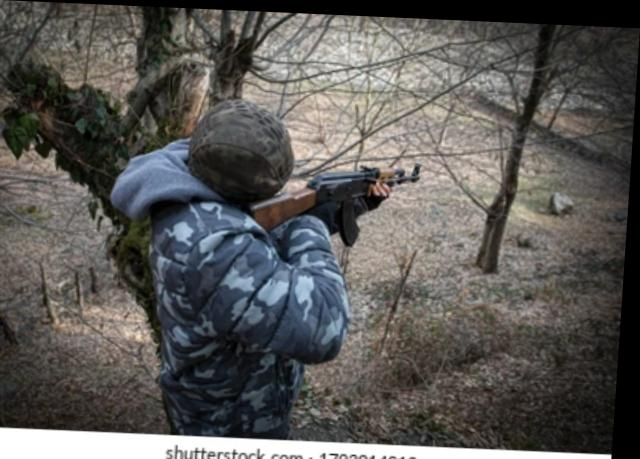other: (99, 95, 359, 426)
